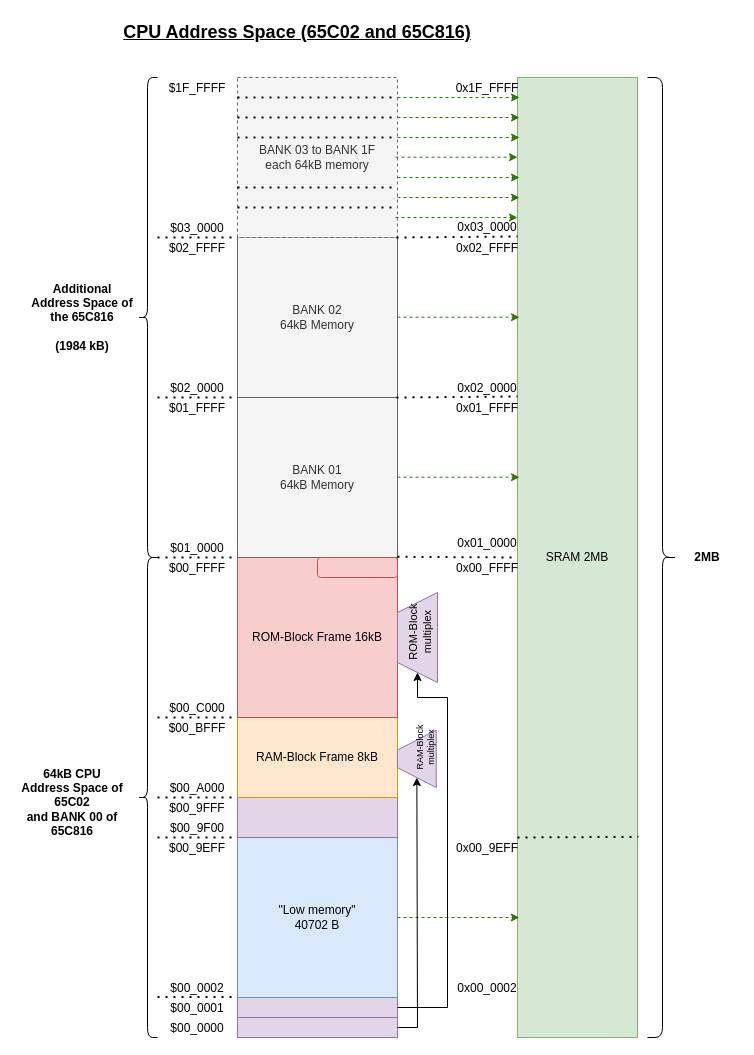
Image size: 754x1055. Some labels were removed from this diagram. The centre of each missing label's shape, as x and y in pixels:
"IOREGS 256B" goes at (x=317, y=817).
"RAMBLOCK reg (1B)" goes at (x=317, y=1027).
"ROMBLOCK reg (1B)" goes at (x=317, y=1007).
"vectors" goes at (x=357, y=567).
